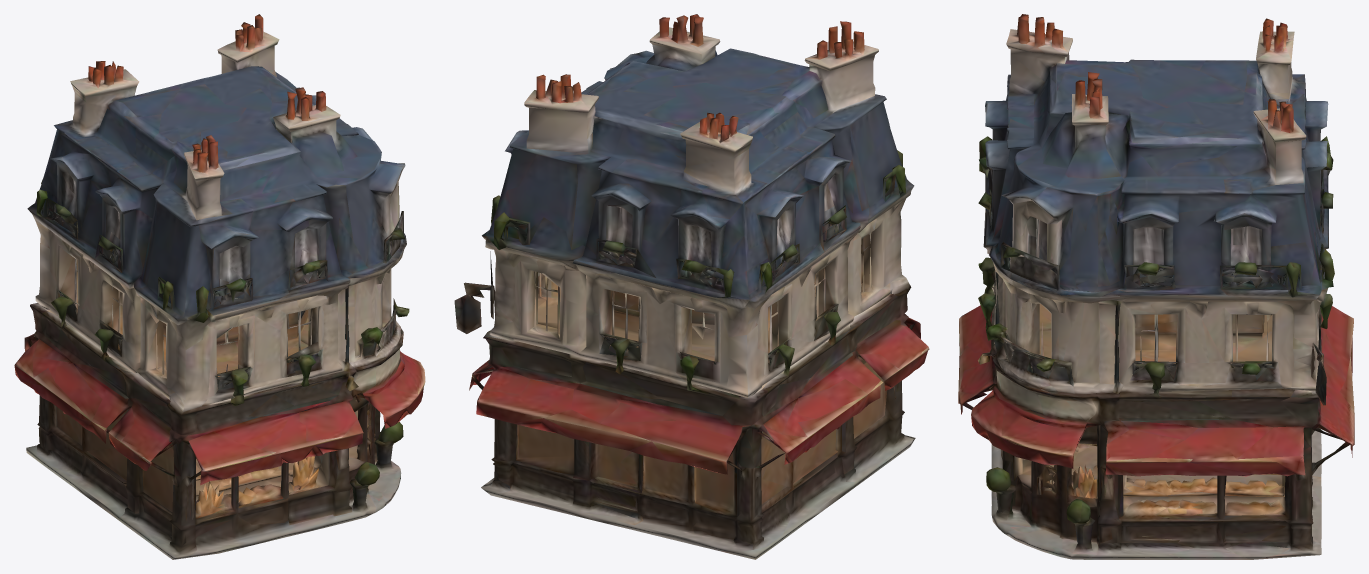
File: building-03-boulangerie.glb
3 views of the same model, side by side, from view 1: azimuth 30°, elevation 25°; view 2: azimuth 150°, elevation 25°; view 3: azimuth 270°, elevation 25° (orthographic). The views are drawn at different scales.
Parts seen in each view (by area): view 1: tripo_node_a7b53e12-3359-4a5d-8619-5a080770c916; view 2: tripo_node_a7b53e12-3359-4a5d-8619-5a080770c916; view 3: tripo_node_a7b53e12-3359-4a5d-8619-5a080770c916.
Part boxes in pixels (x1,y1,x2,y2): tripo_node_a7b53e12-3359-4a5d-8619-5a080770c916: [14, 14, 425, 559]; tripo_node_a7b53e12-3359-4a5d-8619-5a080770c916: [454, 14, 929, 559]; tripo_node_a7b53e12-3359-4a5d-8619-5a080770c916: [958, 14, 1354, 559].
Bounding box in the file's own units: 0.8013 × 1 × 0.8304.
Materials: 1 (1 with a texture image).
